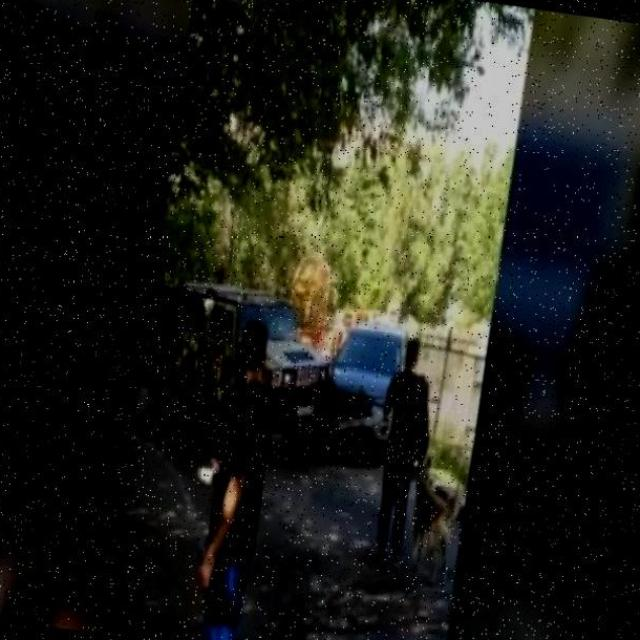accident: (135, 268, 419, 474)
